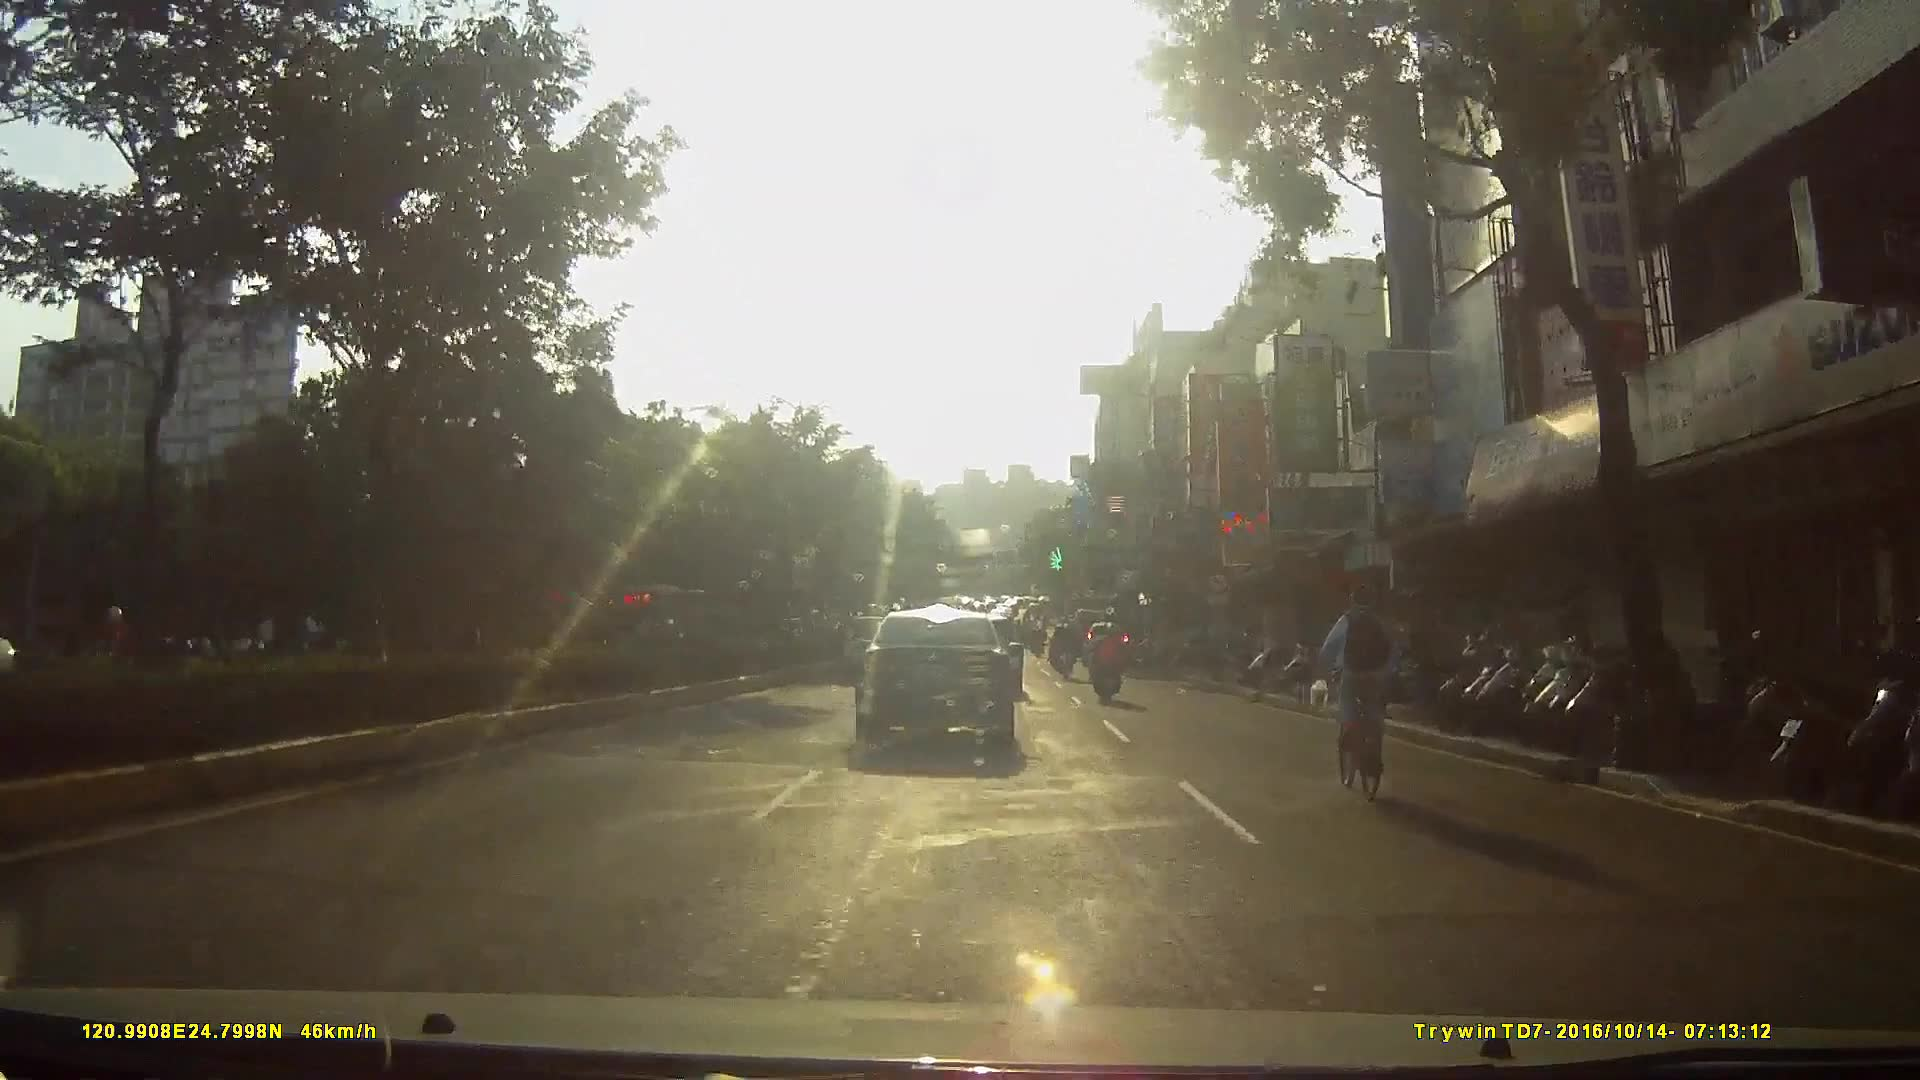rider: (1316, 580, 1401, 797), (1087, 624, 1123, 709), (1049, 620, 1076, 679)
vehicle: (852, 603, 1032, 767)
